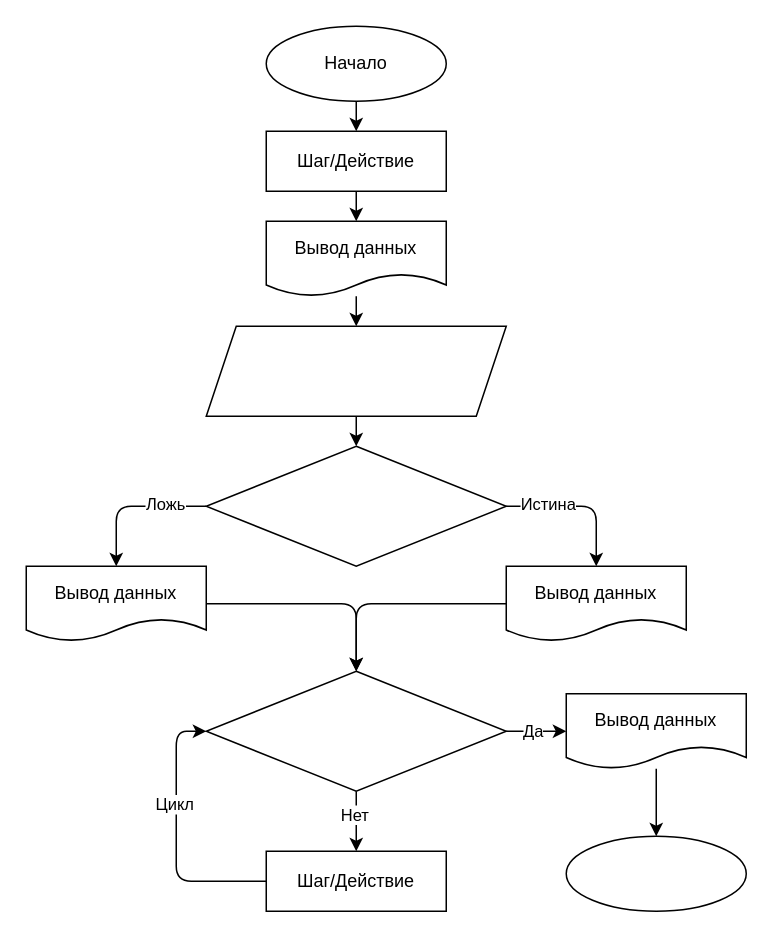
This 773x938 diagram has some shape labels left out. Here are the shapes that lost their labels. From the top down, the box of each, then its label:
(205, 325, 506, 416): Ввод данных
(205, 445, 506, 566): Условие выбора
(205, 670, 506, 791): Условие цикла
(565, 835, 746, 911): Окончание
